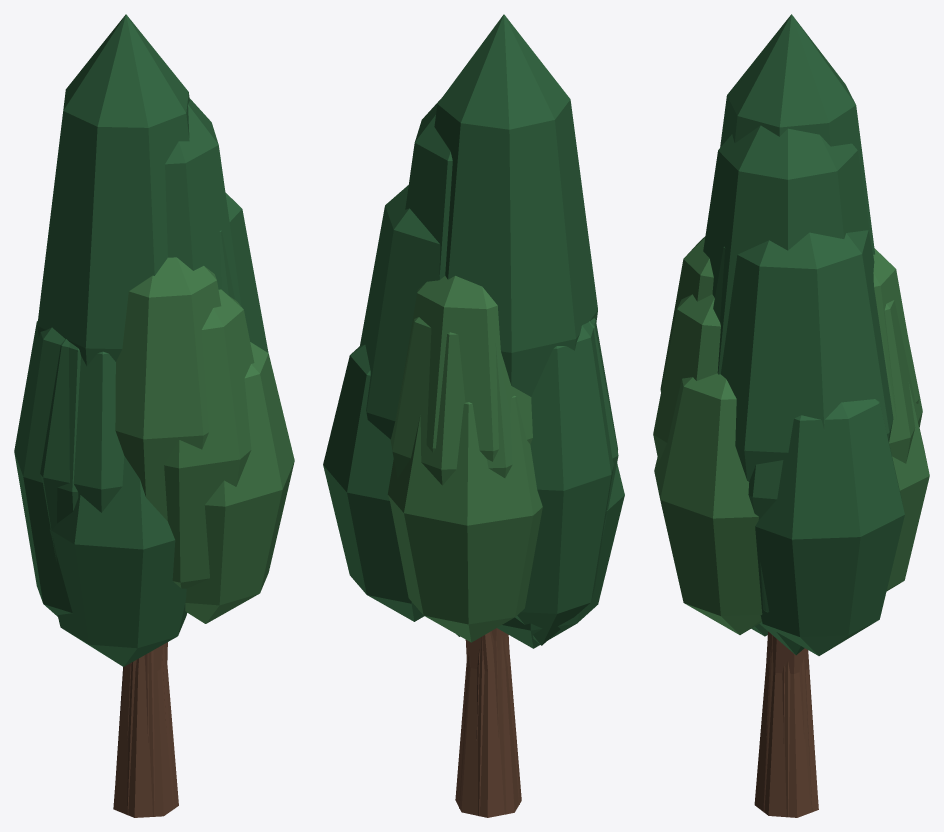
The model's file is tree_poplar.glb.
3 views of the same model, side by side, from view 1: azimuth 30°, elevation 25°; view 2: azimuth 150°, elevation 25°; view 3: azimuth 270°, elevation 25° (orthographic).
Visible parts, largest first — view 1: Poplar_tall_column_canopy.002, Poplar_upright_lobe_canopy.006, Poplar_upright_lobe_canopy.011, Poplar_upright_lobe_canopy.007, Poplar_upright_lobe_canopy.003, Poplar_upright_lobe_canopy.010, Poplar_upright_lobe_canopy.002, Poplar_tall_column_canopy, Poplar_upright_trunk.001, Poplar_tall_column_canopy.001, Poplar_upright_trunk, Poplar_upright_trunk.002; view 2: Poplar_tall_column_canopy.002, Poplar_upright_lobe_canopy.005, Poplar_upright_lobe_canopy.010, Poplar_upright_lobe_canopy.004, Poplar_tall_column_canopy.001, Poplar_upright_lobe_canopy.009, Poplar_upright_lobe_canopy.001, Poplar_upright_trunk.001, Poplar_tall_column_canopy, Poplar_upright_lobe_canopy.006, Poplar_upright_trunk, Poplar_upright_lobe_canopy.002 (+1 smaller); view 3: Poplar_tall_column_canopy.001, Poplar_upright_lobe_canopy.004, Poplar_upright_lobe_canopy.007, Poplar_tall_column_canopy, Poplar_tall_column_canopy.002, Poplar_upright_trunk.001, Poplar_upright_lobe_canopy.003, Poplar_upright_lobe_canopy.001, Poplar_upright_lobe_canopy.005, Poplar_upright_lobe_canopy.009, Poplar_upright_trunk, Poplar_upright_lobe_canopy.011 (+1 smaller).
Boxes of the visible parts, x1,y1,x2,y2 form: Poplar_tall_column_canopy.002: (37, 14, 189, 366); Poplar_upright_lobe_canopy.006: (49, 456, 186, 666); Poplar_upright_lobe_canopy.011: (115, 257, 221, 521); Poplar_upright_lobe_canopy.007: (185, 342, 294, 623); Poplar_upright_lobe_canopy.003: (164, 289, 254, 588); Poplar_upright_lobe_canopy.010: (14, 321, 80, 616); Poplar_upright_lobe_canopy.002: (40, 339, 124, 561); Poplar_tall_column_canopy: (165, 98, 241, 305); Poplar_upright_trunk.001: (113, 642, 178, 817); Poplar_tall_column_canopy.001: (219, 192, 268, 352); Poplar_upright_trunk: (115, 644, 174, 816); Poplar_upright_trunk.002: (127, 647, 166, 742); Poplar_tall_column_canopy.002: (434, 14, 597, 396); Poplar_upright_lobe_canopy.005: (387, 396, 542, 642); Poplar_upright_lobe_canopy.010: (515, 318, 617, 645); Poplar_upright_lobe_canopy.004: (323, 344, 424, 621); Poplar_tall_column_canopy.001: (360, 185, 459, 636); Poplar_upright_lobe_canopy.009: (396, 275, 532, 461); Poplar_upright_lobe_canopy.001: (390, 317, 512, 485); Poplar_upright_trunk.001: (455, 632, 521, 817); Poplar_tall_column_canopy: (405, 99, 452, 279); Poplar_upright_lobe_canopy.006: (497, 463, 624, 648); Poplar_upright_trunk: (459, 629, 519, 816); Poplar_upright_lobe_canopy.002: (589, 321, 618, 538); Poplar_tall_column_canopy.001: (713, 230, 893, 655); Poplar_upright_lobe_canopy.004: (755, 399, 904, 655); Poplar_upright_lobe_canopy.007: (654, 373, 762, 634); Poplar_tall_column_canopy: (703, 125, 873, 374); Poplar_tall_column_canopy.002: (720, 14, 874, 254); Poplar_upright_trunk.001: (754, 631, 818, 817); Poplar_upright_lobe_canopy.003: (653, 294, 720, 462); Poplar_upright_lobe_canopy.001: (879, 300, 922, 463); Poplar_upright_lobe_canopy.005: (886, 382, 929, 591); Poplar_upright_lobe_canopy.009: (873, 248, 918, 419); Poplar_upright_trunk: (763, 635, 817, 817); Poplar_upright_lobe_canopy.011: (660, 236, 713, 391).
Bounding box in the file's own units: 1.5 × 4.45 × 1.43.
